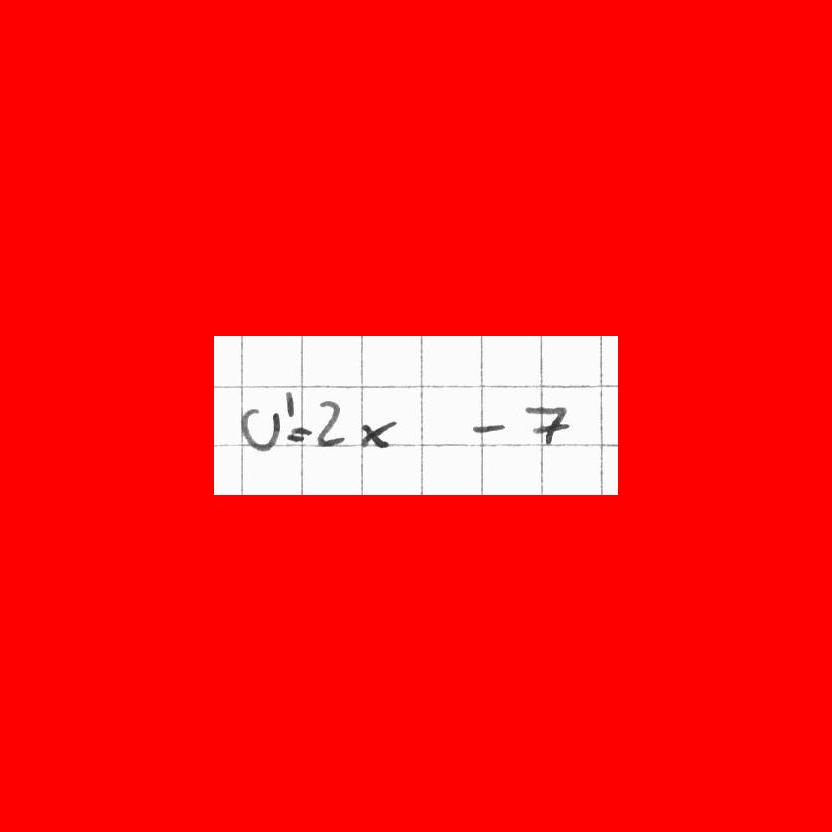Char: (239, 405, 281, 453), (525, 403, 568, 447), (316, 397, 344, 448), (359, 417, 393, 451), (468, 420, 508, 436), (285, 424, 312, 444), (283, 388, 297, 420)
